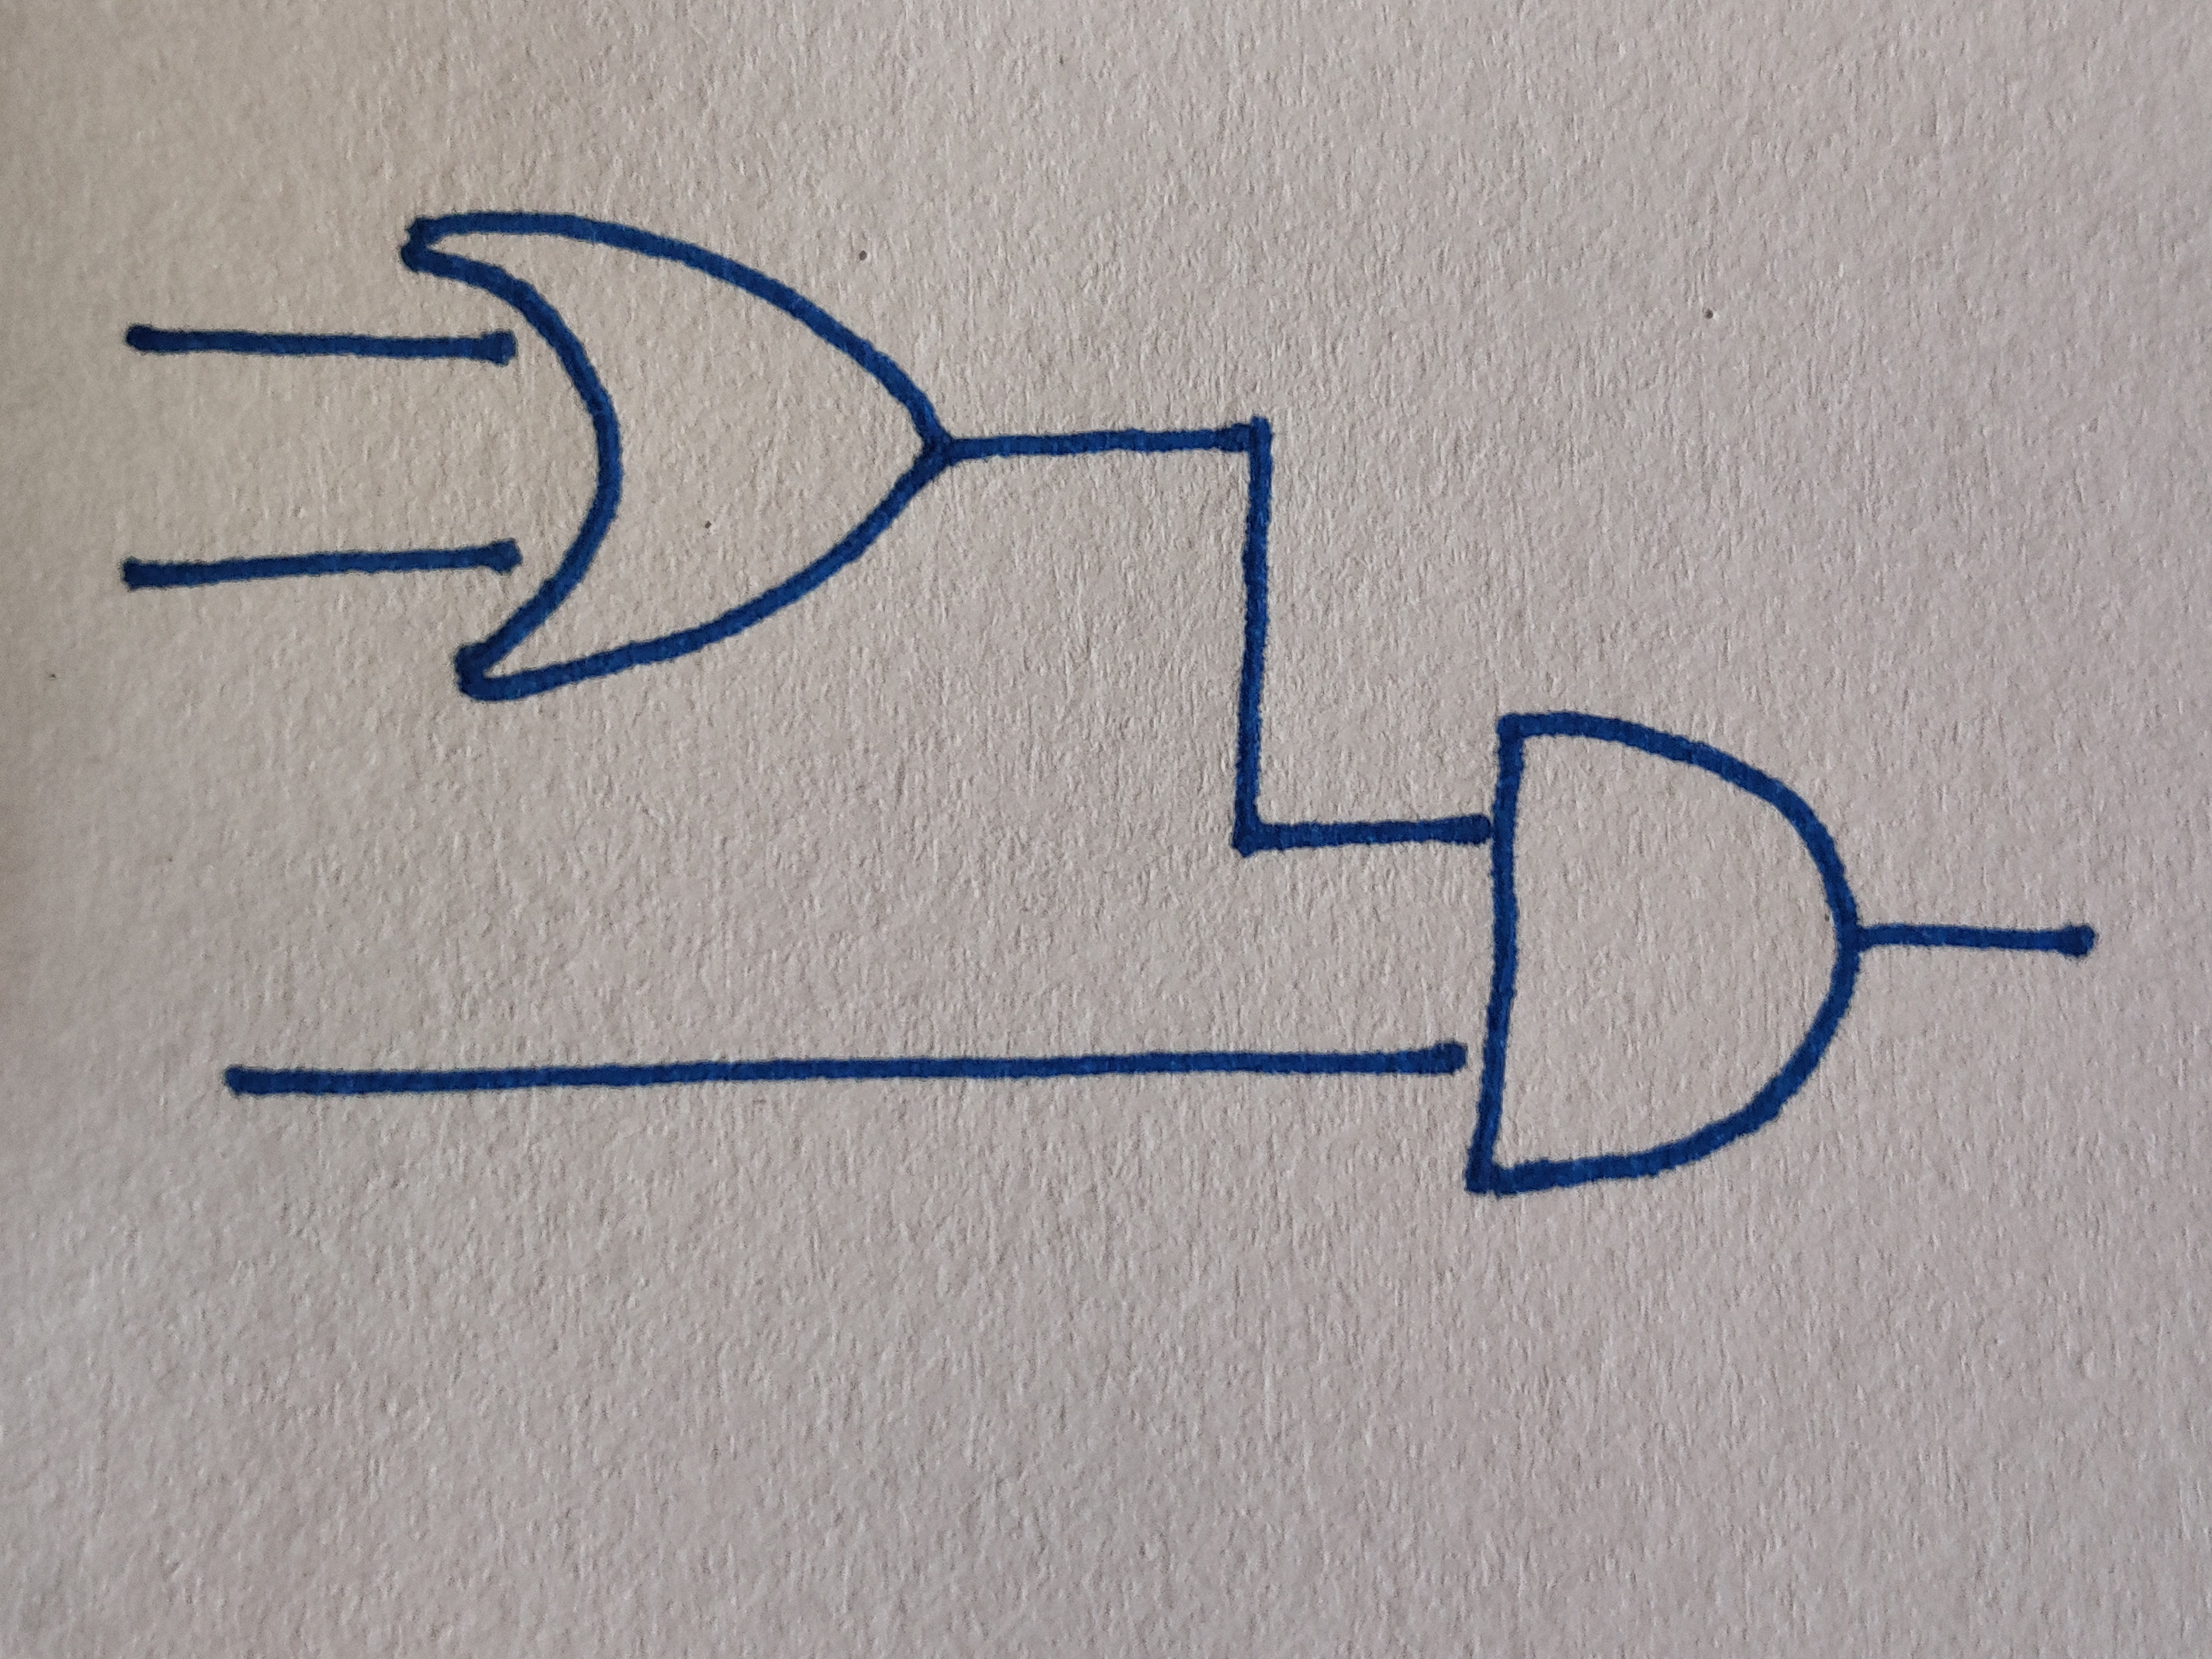and: (1467, 711, 1860, 1197)
or: (404, 211, 954, 701)
